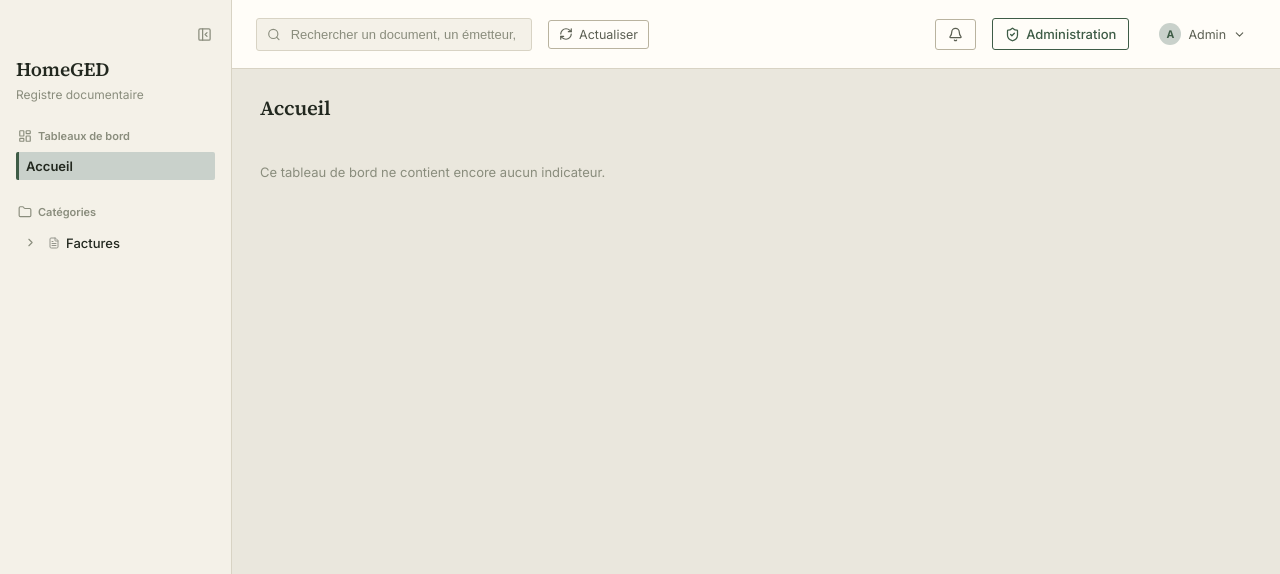
sélection dans le registre › relâche la ligne quand on la reclique
Click the button "Factures". click: (128, 242)
box: [40,228,215,256]
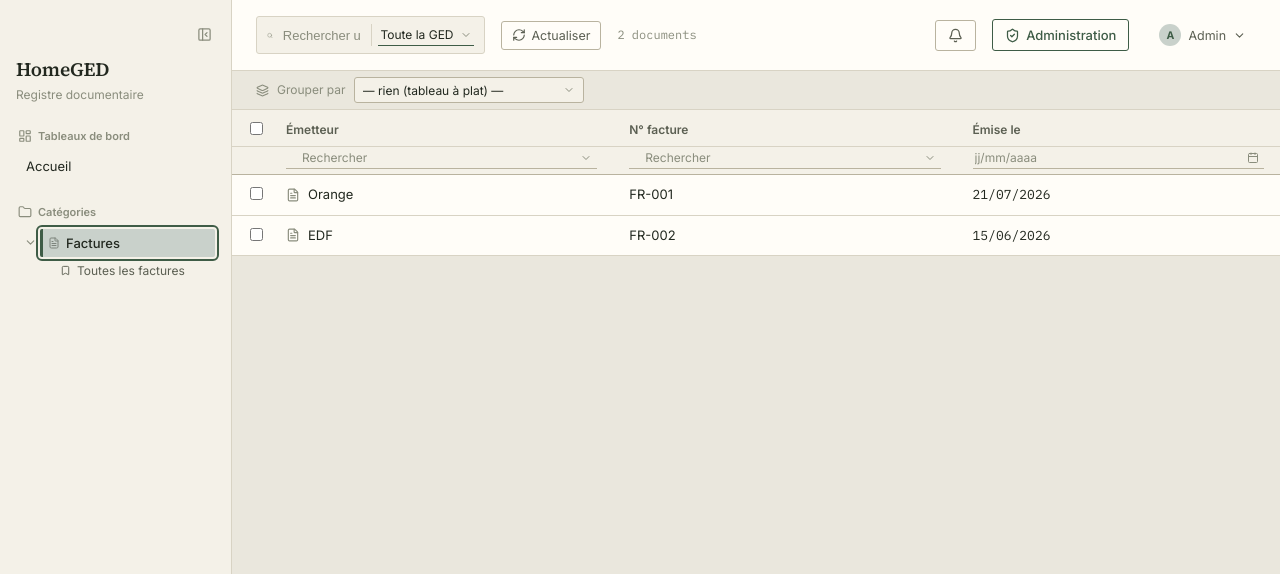
Now the text "Orange" is shown
Click the text "Orange". click: (320, 194)
box: [286,186,353,202]
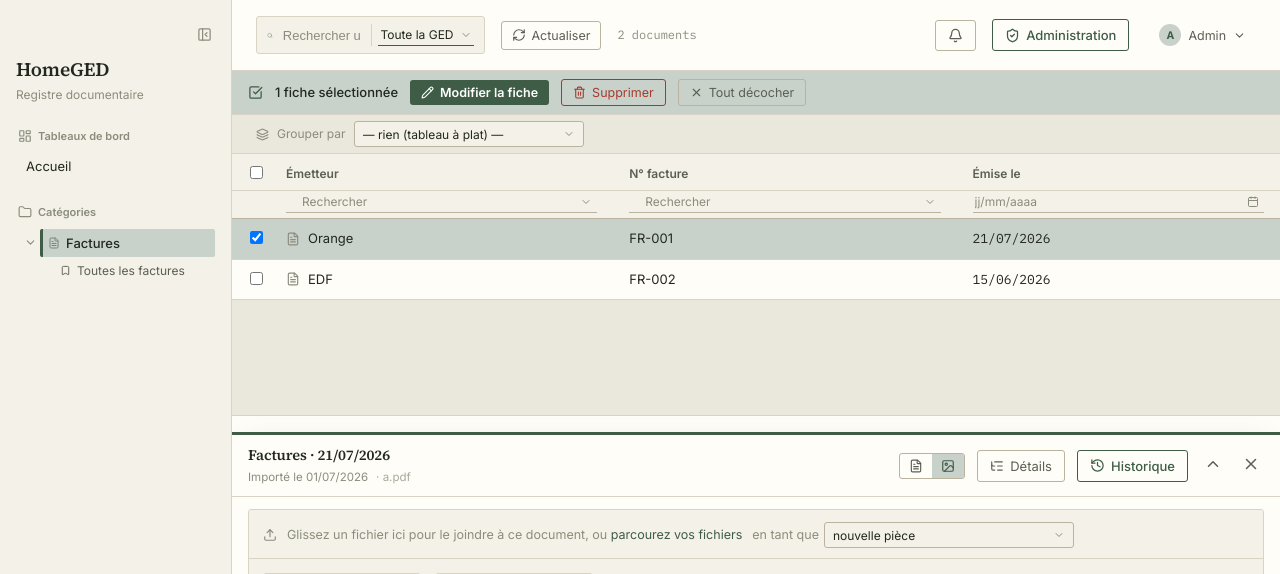
Now the text "1 fiche sélectionnée" is shown, box [275,83,398,102]
Click the text "Orange". click: (320, 238)
box: [286,230,353,246]
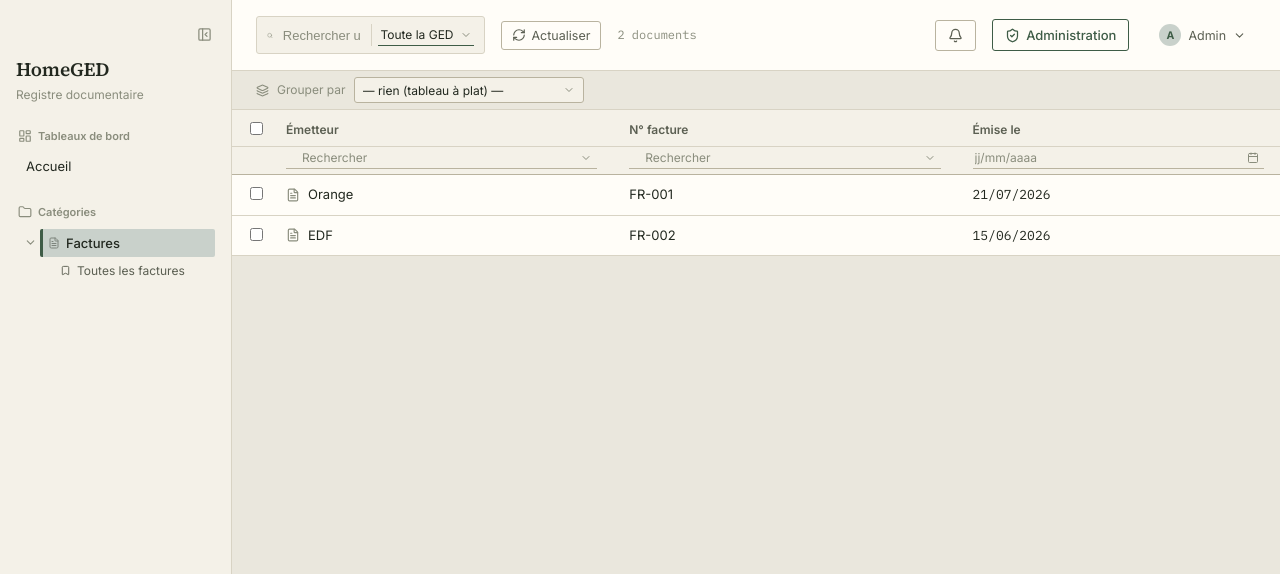
Now the text "1 fiche sélectionnée" is gone
